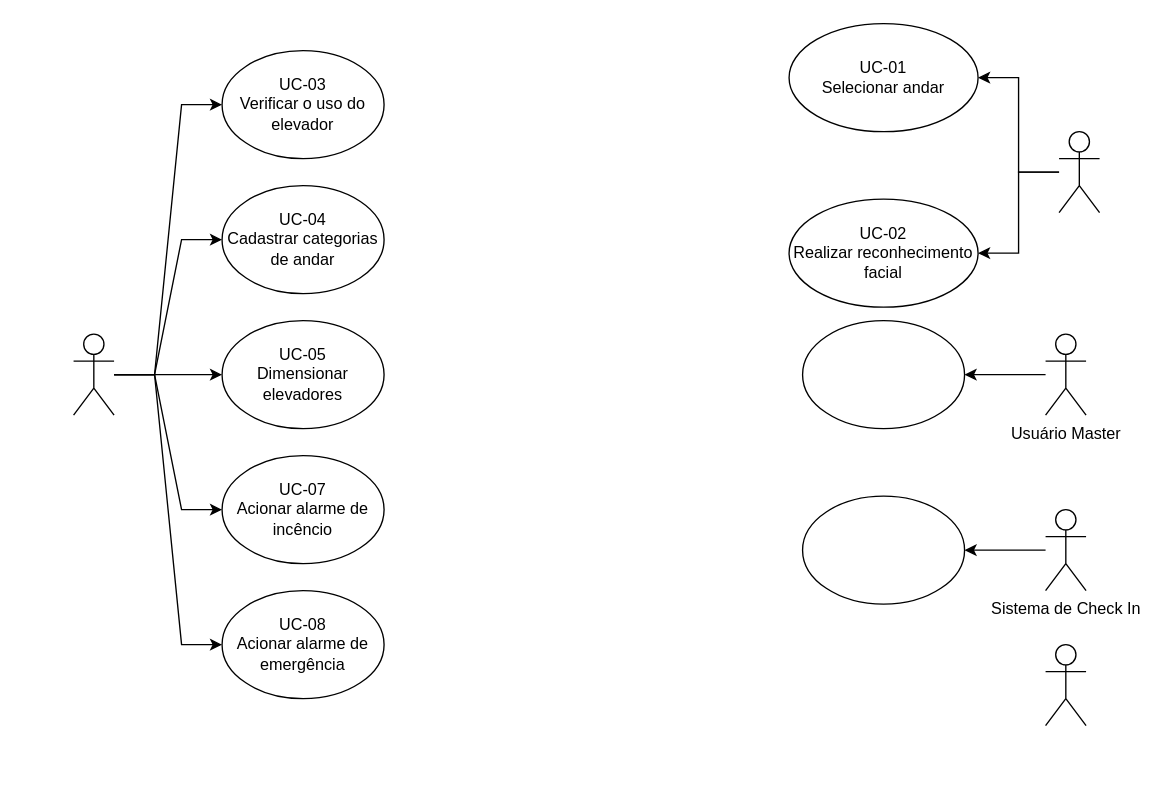
Some shapes in this 1164 by 798 pixel diagram are drawn without their labels. The shapes that lost their labels are listed below. From the top down, each one's centre as x and y in pixels, then its label:
At point 1079,171: "Hospede".
At point 93,374: "Usuário do Sistema".
At point 883,374: "UC-06 Gerenciar gerentes das unidades".
At point 883,549: "UC-09 Cadastrar facial".
At point 1065,684: "Elevador".
